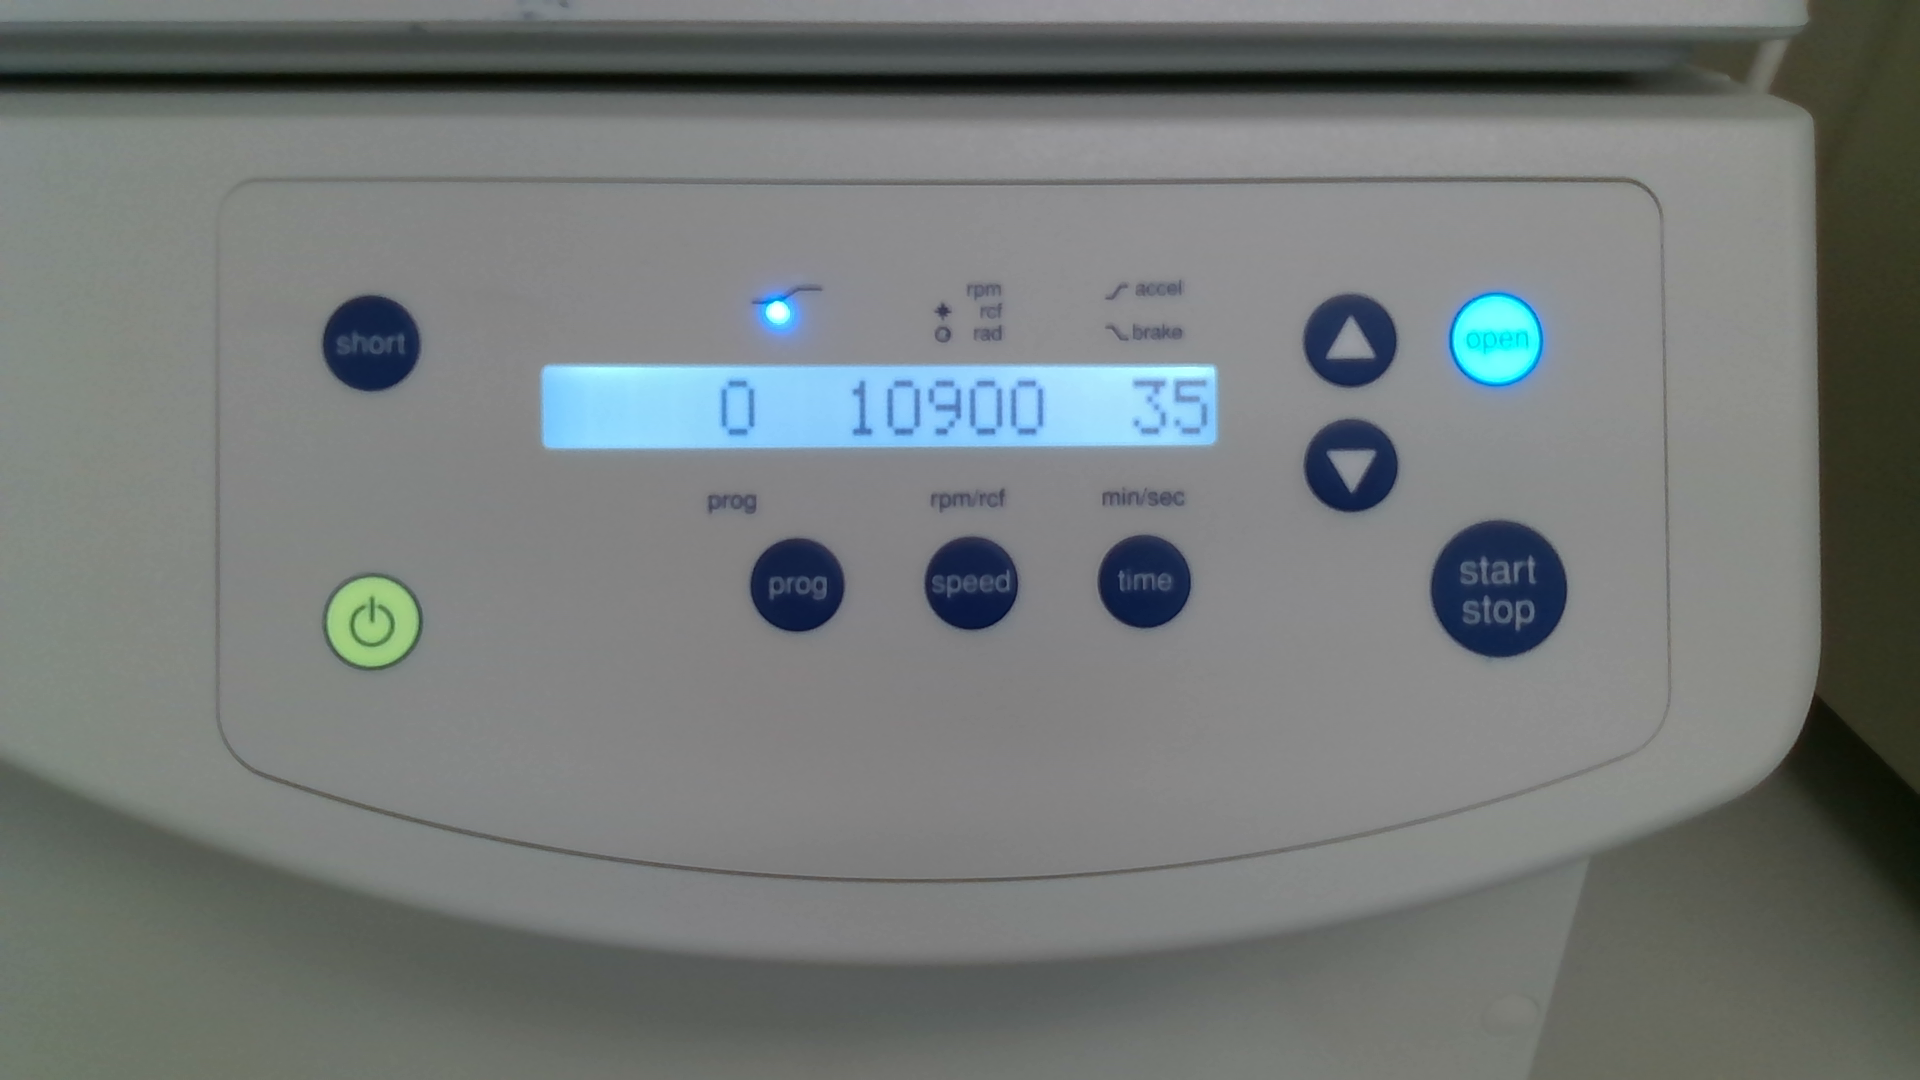0: (887, 380, 920, 436), (969, 378, 1002, 435), (1010, 380, 1043, 436), (721, 380, 754, 435)
1: (852, 380, 872, 436)
3: (1133, 378, 1167, 435)
5: (1174, 378, 1207, 435)
9: (928, 380, 963, 436)
open_on: (1448, 291, 1544, 386)
power_on: (320, 571, 425, 673)
